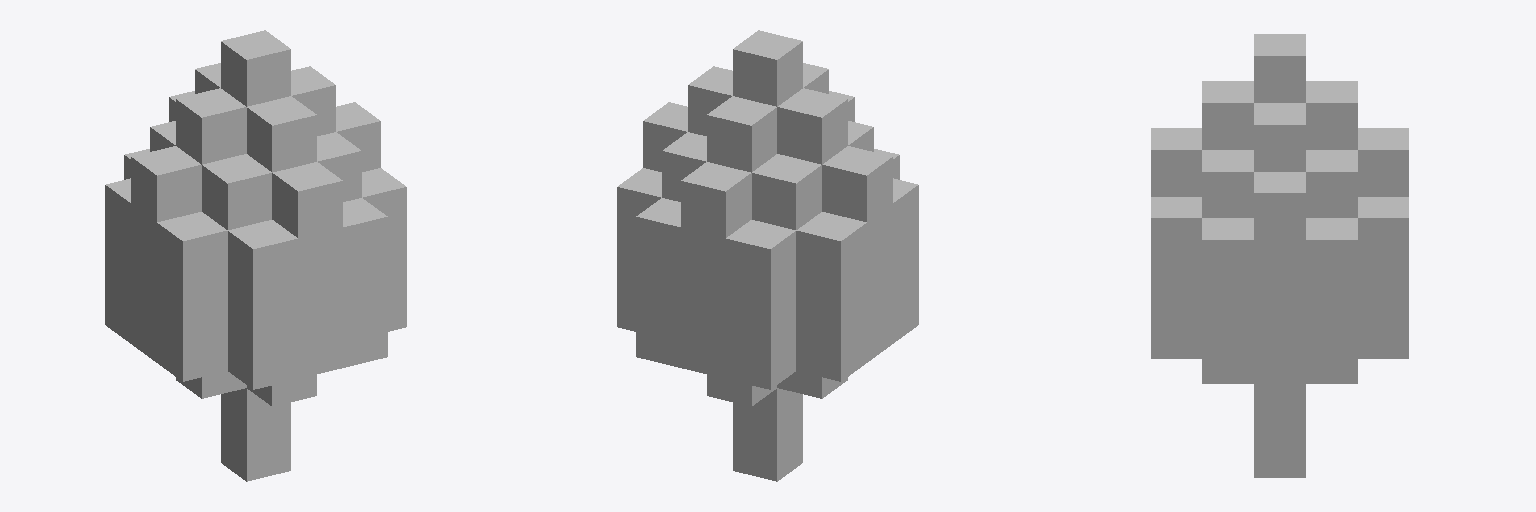
File: Tree.obj
3 views of the same model, side by side, from view 1: azimuth 30°, elevation 25°; view 2: azimuth 150°, elevation 25°; view 3: azimuth 270°, elevation 25° (orthographic).
Bounding box in the file's own units: 5 × 9 × 5.